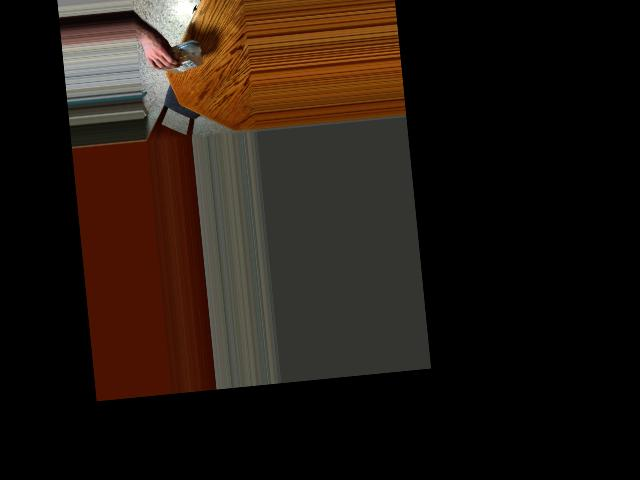cheese: (148, 36, 195, 77)
